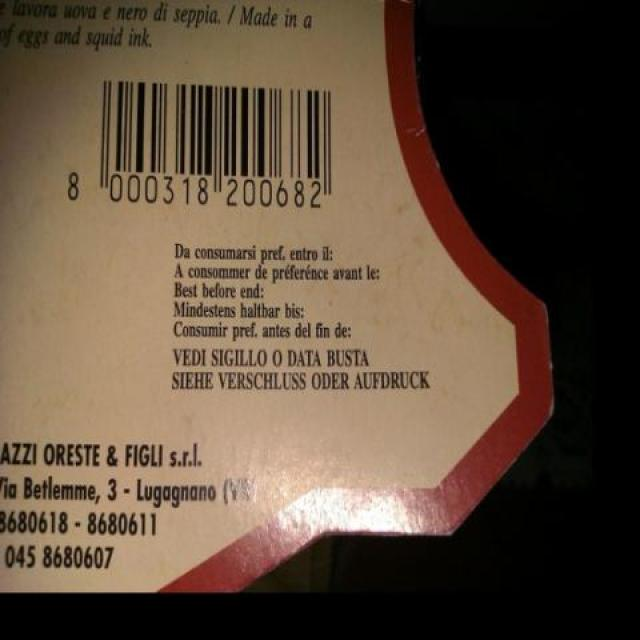Barcode: (51, 64, 361, 235)
